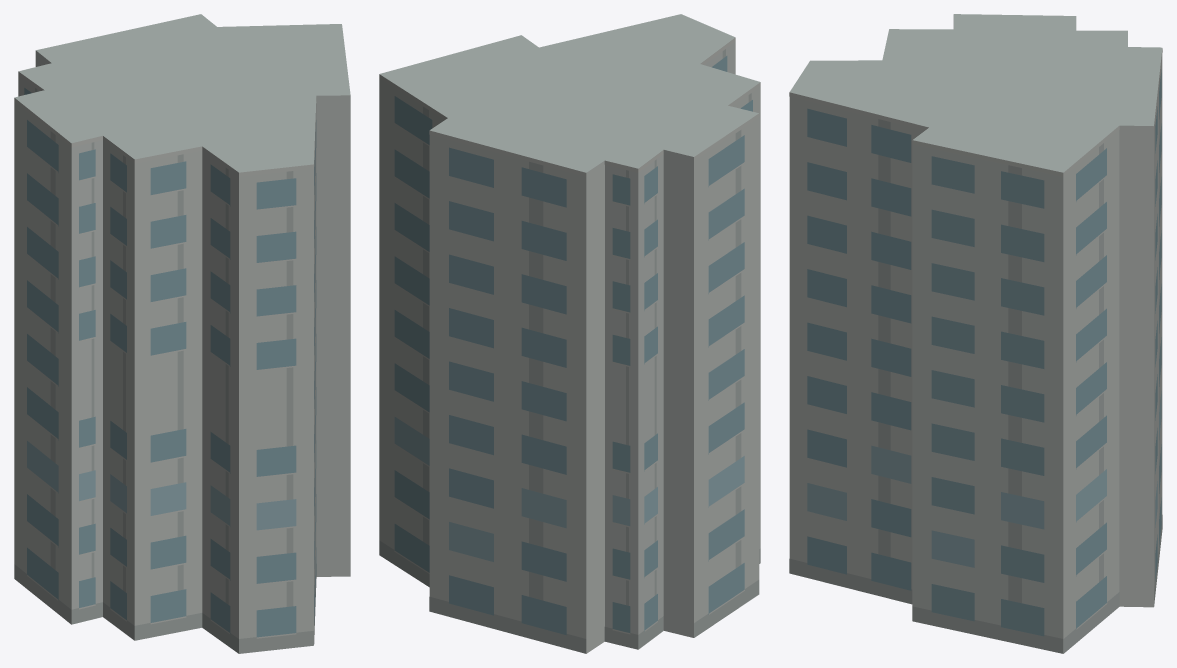
Rendered from survey-upis-32913318.glb.
3 renders of one model, left to right at view 1: azimuth 30°, elevation 25°; view 2: azimuth 150°, elevation 25°; view 3: azimuth 270°, elevation 25°, orthographic.
Parts seen in each view (by area): view 1: survey-upis-32913318.tmp; view 2: survey-upis-32913318.tmp; view 3: survey-upis-32913318.tmp.
Part boxes in pixels (x1,y1,x2,y2): survey-upis-32913318.tmp: [14, 14, 350, 653]; survey-upis-32913318.tmp: [379, 14, 760, 653]; survey-upis-32913318.tmp: [789, 14, 1162, 653].
Bounding box in the file's own units: 19.36 × 27.35 × 19.22.
